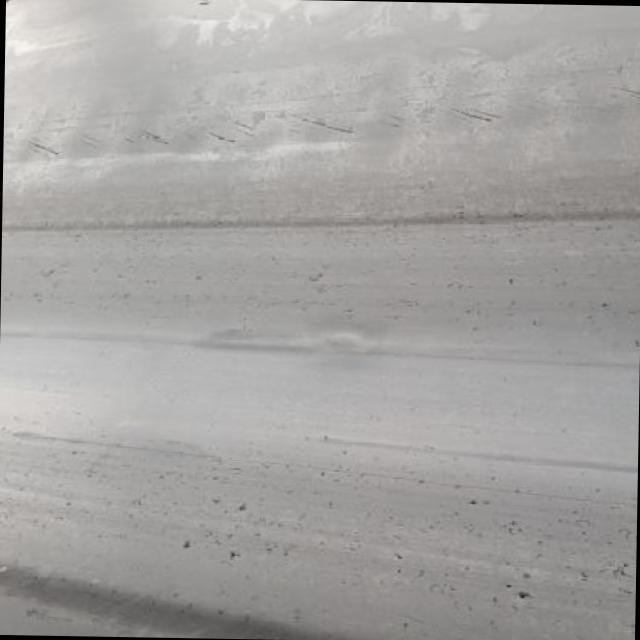Impact Damage: (200, 319, 394, 367)
Puncture: (516, 589, 534, 603), (178, 538, 194, 552), (505, 274, 518, 288), (234, 503, 250, 513), (464, 497, 480, 507), (227, 550, 242, 560)
